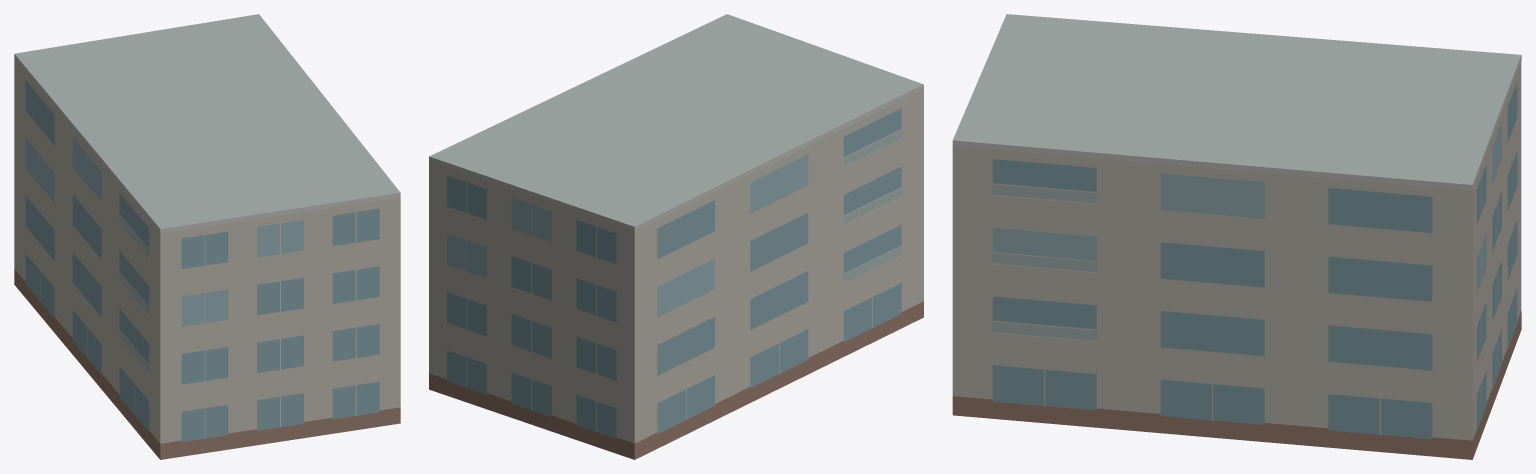
The model's file is survey-upis-32702666.glb.
3 views of the same model, side by side, from view 1: azimuth 30°, elevation 25°; view 2: azimuth 150°, elevation 25°; view 3: azimuth 270°, elevation 25° (orthographic). The views are drawn at different scales.
Visible parts, largest first — view 1: survey-upis-32702666.tmp; view 2: survey-upis-32702666.tmp; view 3: survey-upis-32702666.tmp.
Boxes of the visible parts, x1,y1,x2,y2 form: survey-upis-32702666.tmp: (14, 14, 400, 459); survey-upis-32702666.tmp: (429, 14, 923, 459); survey-upis-32702666.tmp: (952, 14, 1521, 459).
Bounding box in the file's own units: 16.56 × 12.4 × 23.27.
